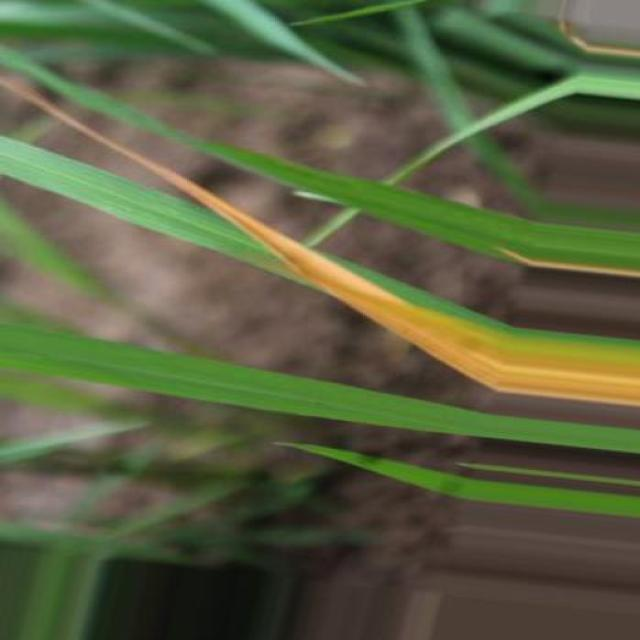Rice Tungro: (2, 76, 639, 404), (496, 248, 639, 277)
